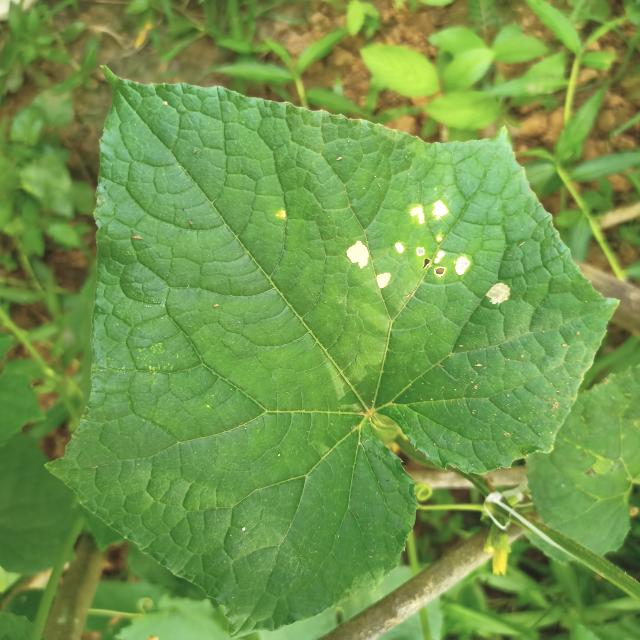disease_cucumber: (345, 201, 510, 306)
